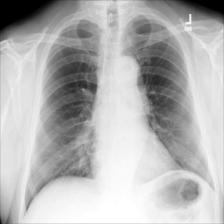normal: (24, 18, 219, 216)
